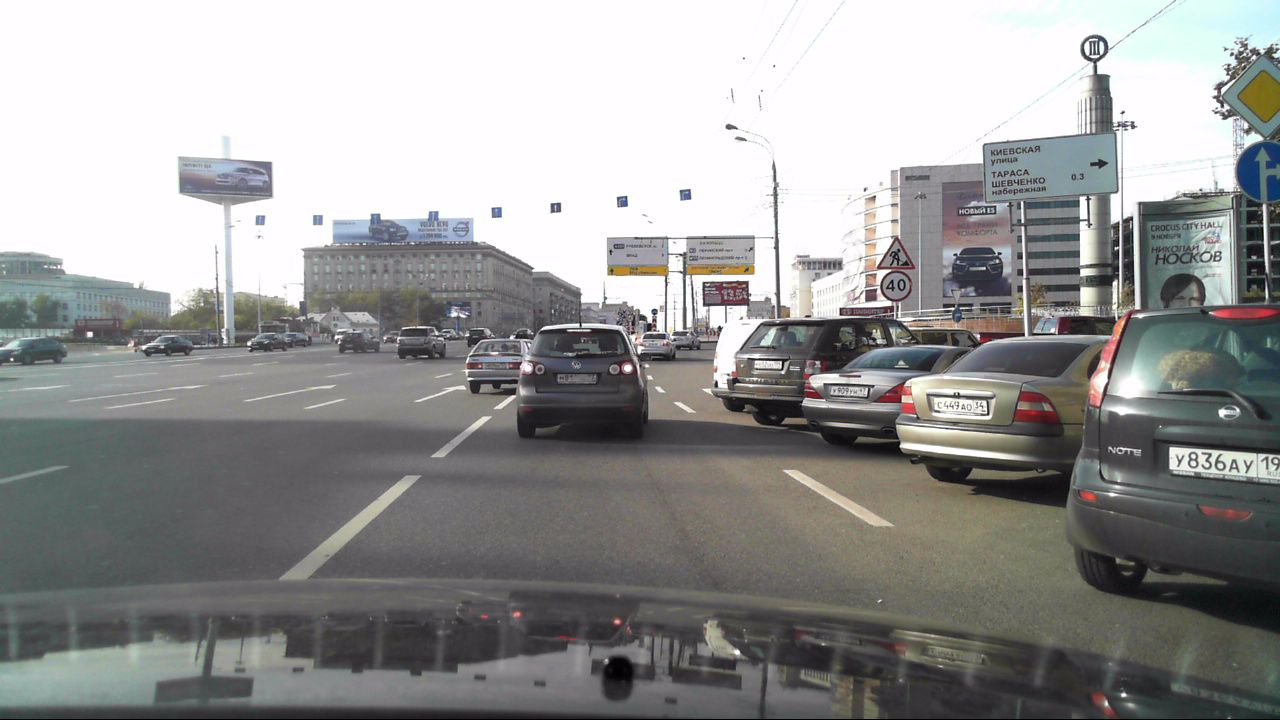speed_warning_40: (880, 270, 912, 303)
